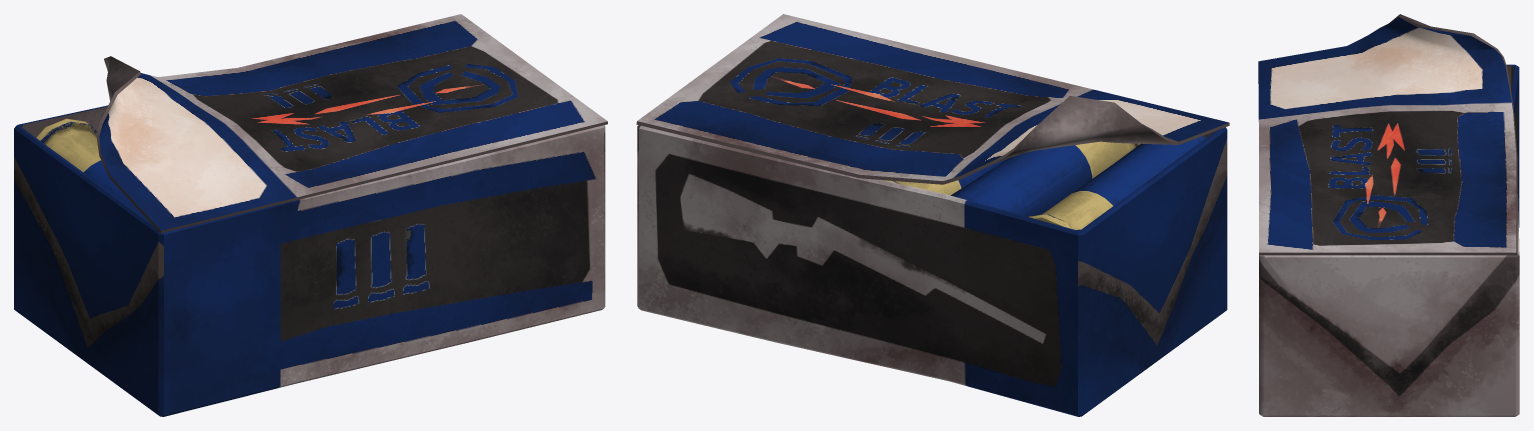
Rendered from ShotgunSlugBox.fbx.
The picture shows the model from 3 angles, left to right: view 1: azimuth 30°, elevation 25°; view 2: azimuth 150°, elevation 25°; view 3: azimuth 270°, elevation 25°; orthographic projection. The views are drawn at different scales.
Parts seen in each view (by area): view 1: ShotgunSlugBox; view 2: ShotgunSlugBox; view 3: ShotgunSlugBox.
Boxes of the visible parts, x1,y1,x2,y2 form: ShotgunSlugBox: (14,14,607,416); ShotgunSlugBox: (636,14,1229,416); ShotgunSlugBox: (1258,14,1519,416).
Bounding box in the file's own units: 24.59 × 13.67 × 13.94.
Materials: 2 (2 with a texture image).
